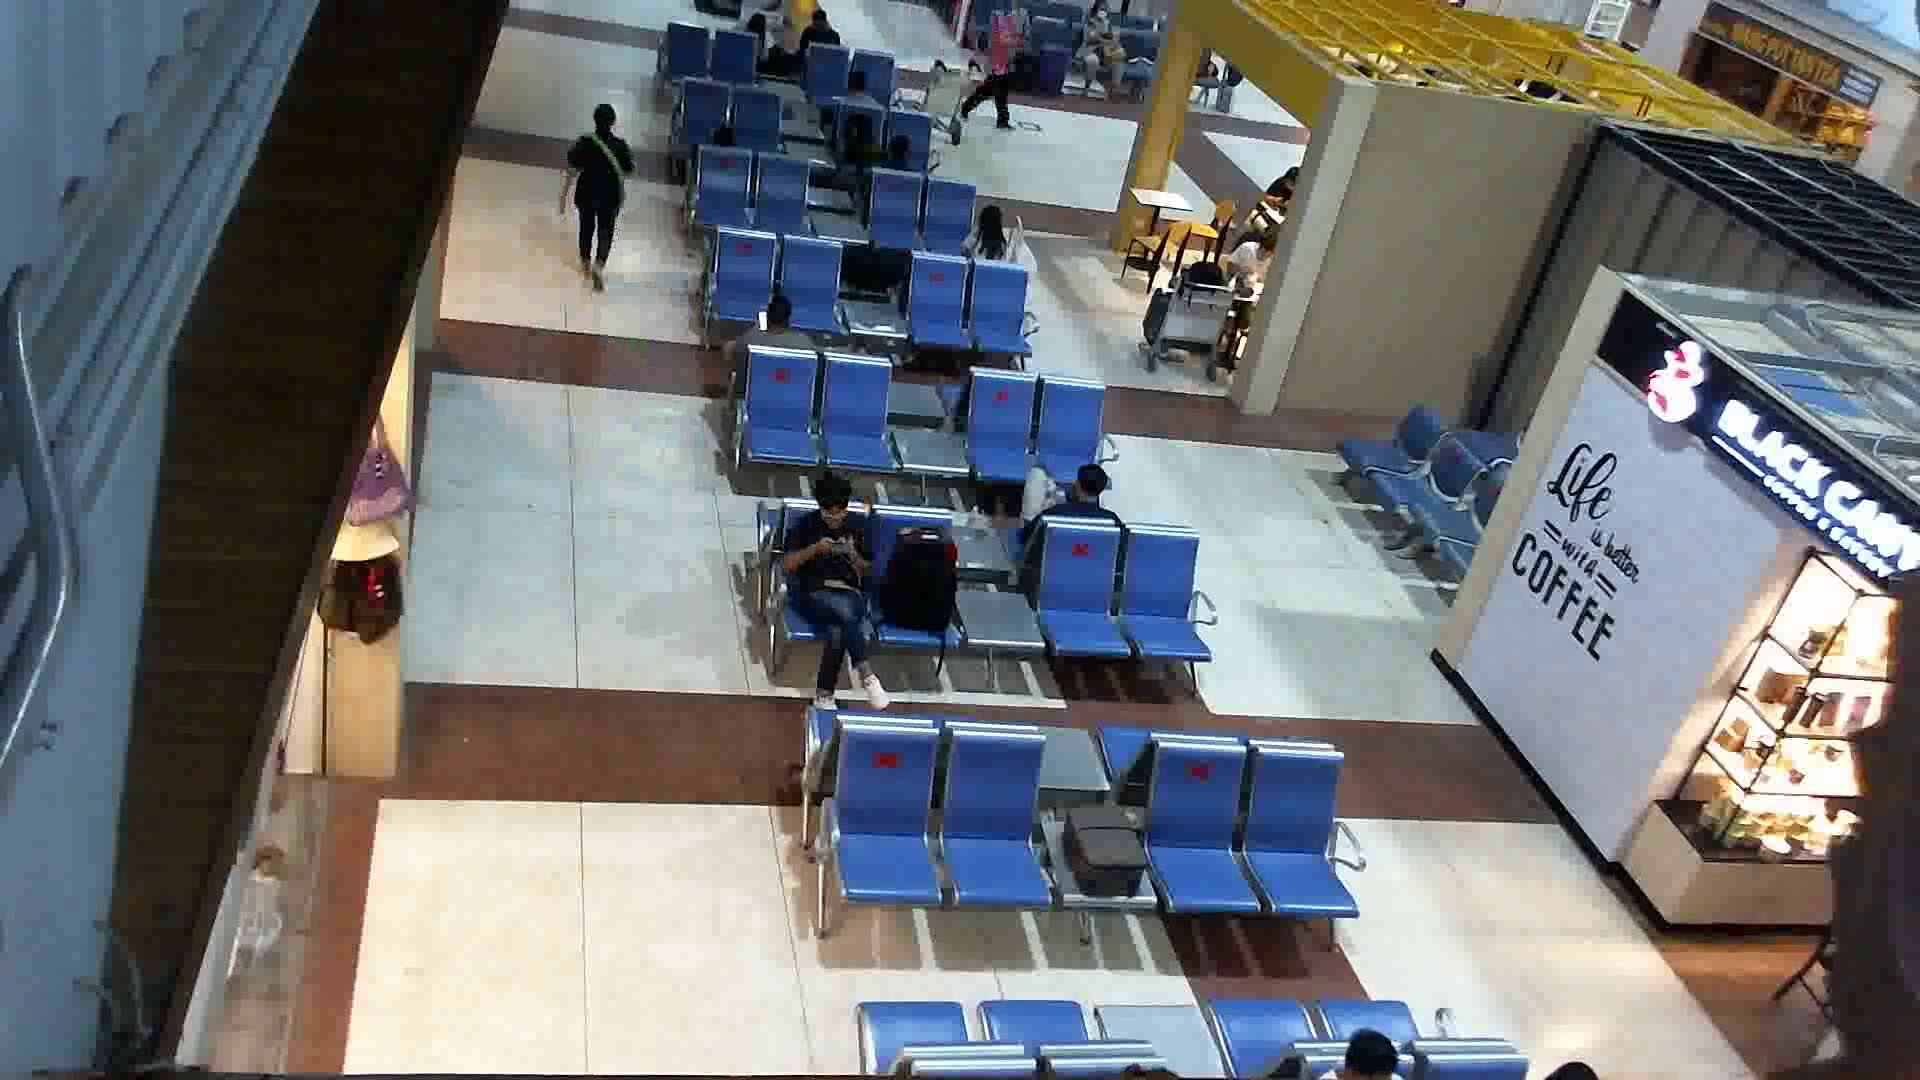luggage: (865, 521, 968, 657), (1057, 799, 1151, 902)
people: (768, 479, 896, 733), (552, 91, 646, 298)
